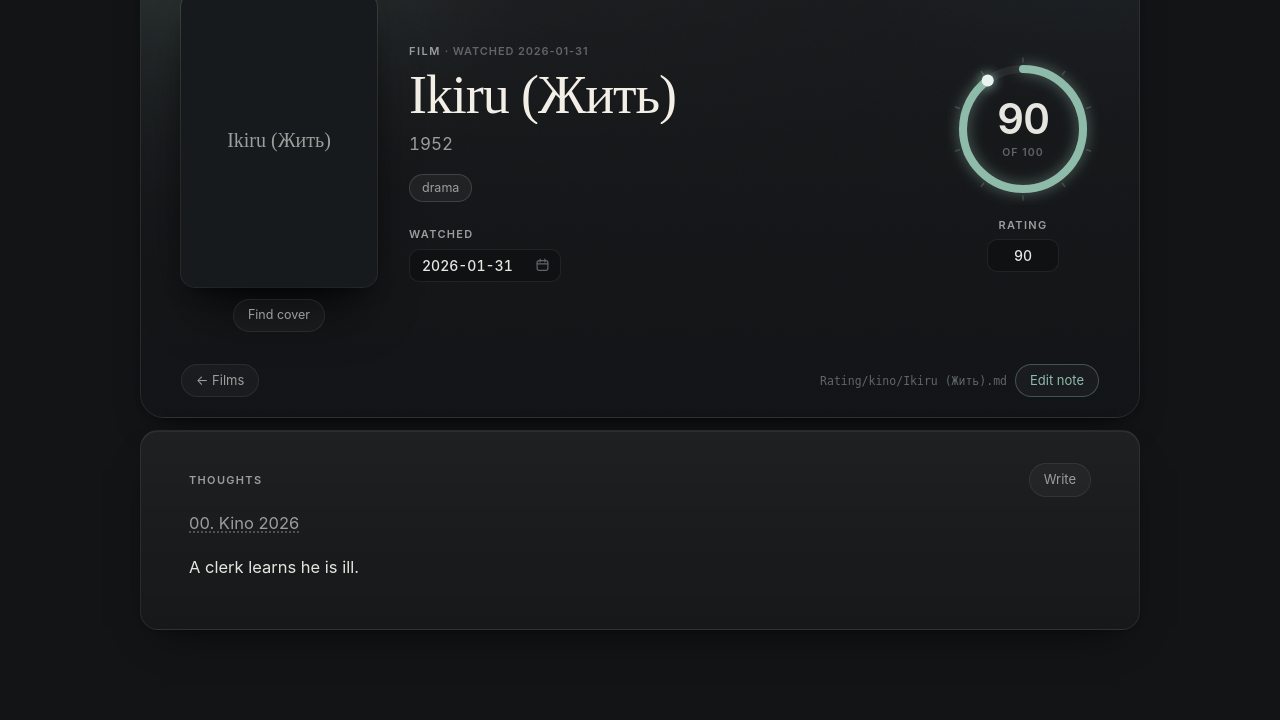
Test: Find cover, on a media page › offers the best few, the sure one chosen, and saves it with what the note leaves empty
Click the button with test id "find-cover-open" at (279, 315), box left=233, top=299, right=325, bottom=332
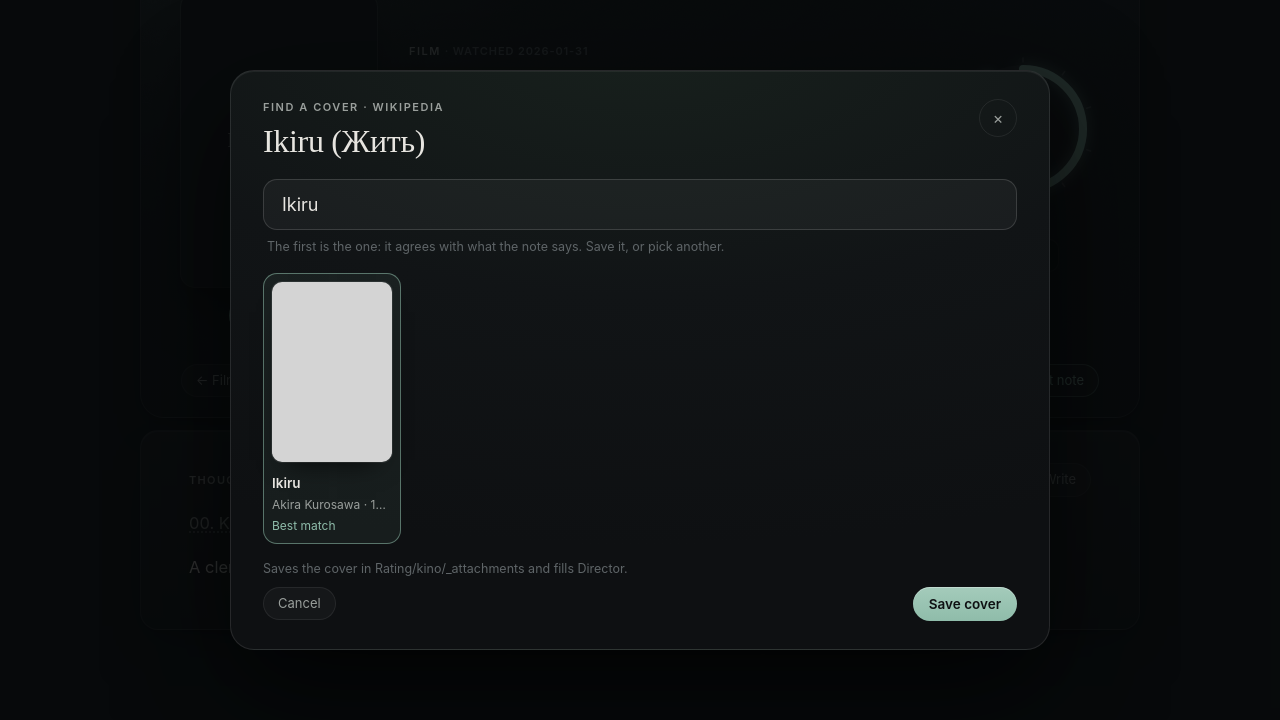
Check: the dialog "Find a cover" is shown, box left=230, top=70, right=1050, bottom=650
Check: the text with test id "cover-where" reads "Saves the cover in Rating/kino/_attachments and fills Director.", box left=263, top=561, right=628, bottom=576
Click the button with test id "cover-save" at (965, 604), box left=913, top=587, right=1017, bottom=621
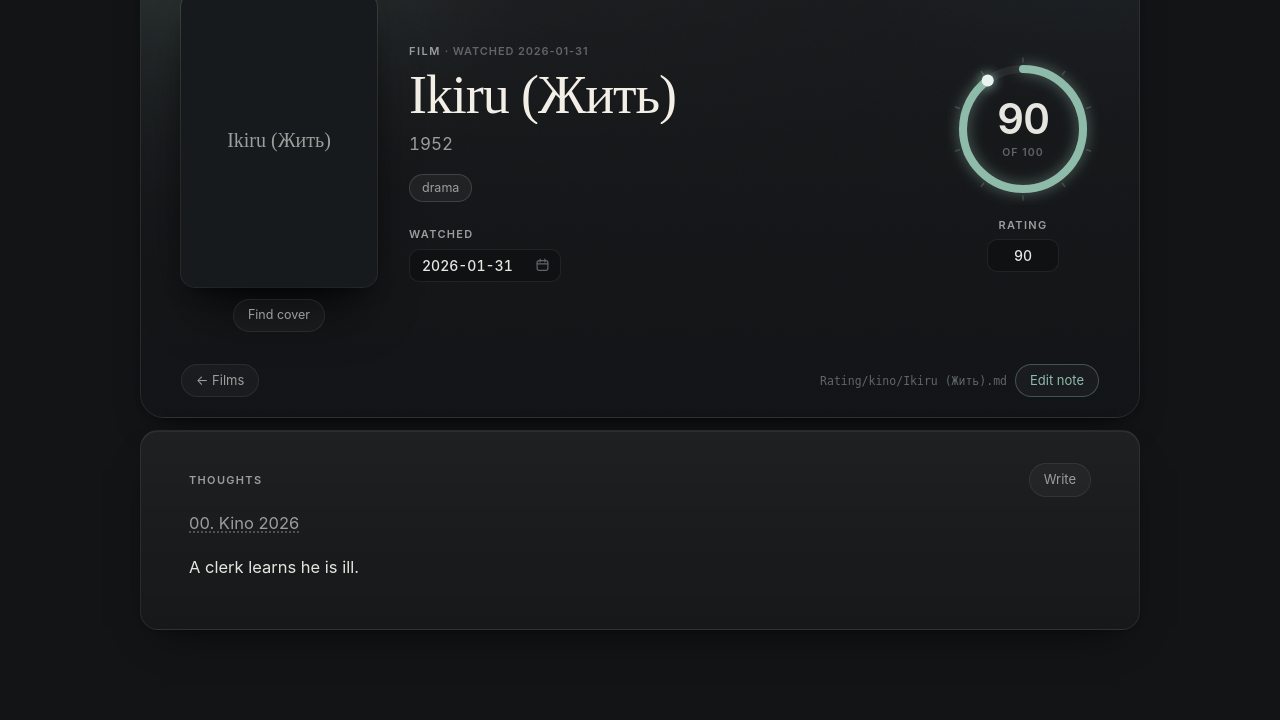
Check: the element with test id "find-cover" is gone
